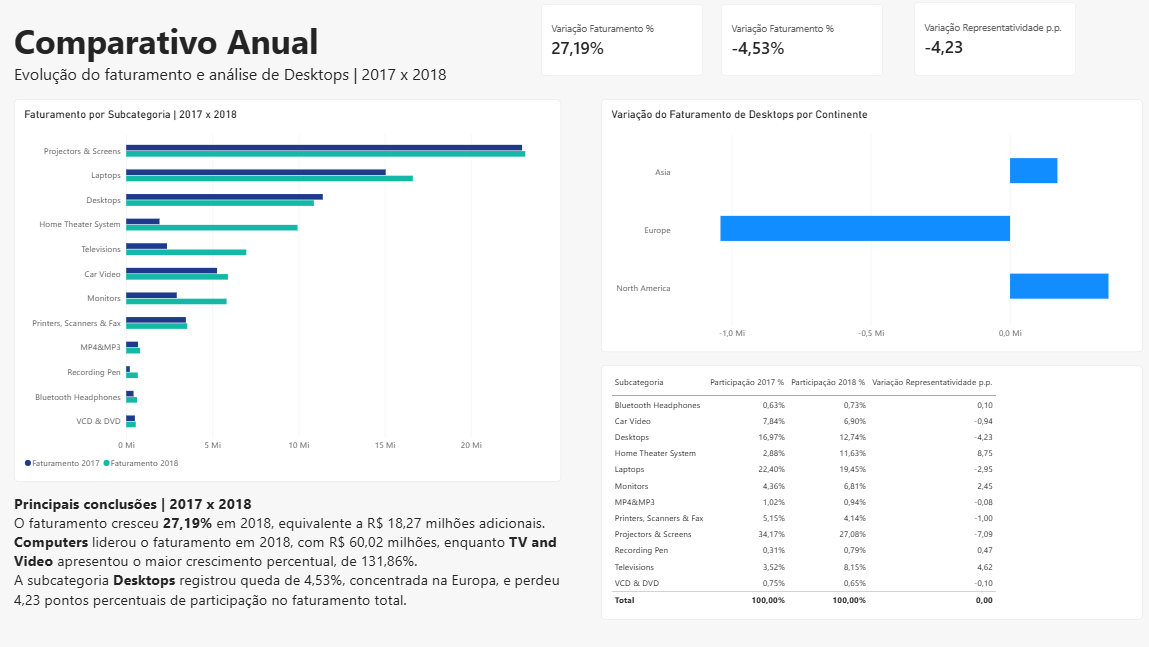

This screenshot's page, from the dashboard's own definition file:
{"tool":"powerbi","page":{"name":"02 - Comparativo Anual.","canvas":[1920,1080],"ordinal":1},"visuals":[{"type":"clusteredBarChart","title":"Faturamento por Subcategoria | 2017 x 2018","fields":{"Category":["Produto.Subcategoria"],"Y":["Calendario.Faturamento 2017","Calendario.Faturamento 2018"]},"box":[25,165,911.7,638.3],"z":1000},{"type":"clusteredBarChart","title":"Variação do Faturamento de Desktops por Continente","fields":{"Category":["DimContinente.Continente"],"Y":["Calendario.Variação Faturamento R$"]},"box":[1003.3,165,903.3,421.7],"z":2000},{"type":"textbox","box":[25,30,878.3,156.7],"z":3000},{"type":"cardVisual","title":"Crescimento 2018 x 2017","fields":{"Data":["Calendario.Variação Faturamento %"]},"box":[903.3,6.7,270,120],"z":4000},{"type":"cardVisual","fields":{"Data":["Calendario.Variação Faturamento %"]},"box":[1203.3,6.7,270,120],"z":5000},{"type":"cardVisual","fields":{"Data":["Calendario.Variação Representatividade p.p."]},"box":[1525,3.3,270,123.3],"z":6000},{"type":"tableEx","fields":{"Values":["Produto.Subcategoria","Calendario.Participação 2017 %","Calendario.Participação 2018 %","Calendario.Variação Representatividade p.p."]},"box":[1003.3,608.3,903.3,425],"z":6001},{"type":"textbox","box":[25,821.7,912,230],"z":6002}]}

Visuals, with their boxes in screenshot pixels (x1, y1, x2, y2), scaled from the page's 1920x1080 canvas onto the 1149x647 screenshot:
"Faturamento por Subcategoria | 2017 x 2018" clusteredBarChart: left=15, top=99, right=561, bottom=481
"Variação do Faturamento de Desktops por Continente" clusteredBarChart: left=600, top=99, right=1141, bottom=351
textbox: left=15, top=18, right=541, bottom=112
"Crescimento 2018 x 2017" cardVisual: left=541, top=4, right=702, bottom=76
cardVisual - Calendario.Variação Faturamento %: left=720, top=4, right=882, bottom=76
cardVisual - Calendario.Variação Representatividade p.p.: left=913, top=2, right=1074, bottom=76
tableEx - Produto.Subcategoria x Calendario.Participação 2017 %: left=600, top=364, right=1141, bottom=619
textbox: left=15, top=492, right=561, bottom=630
